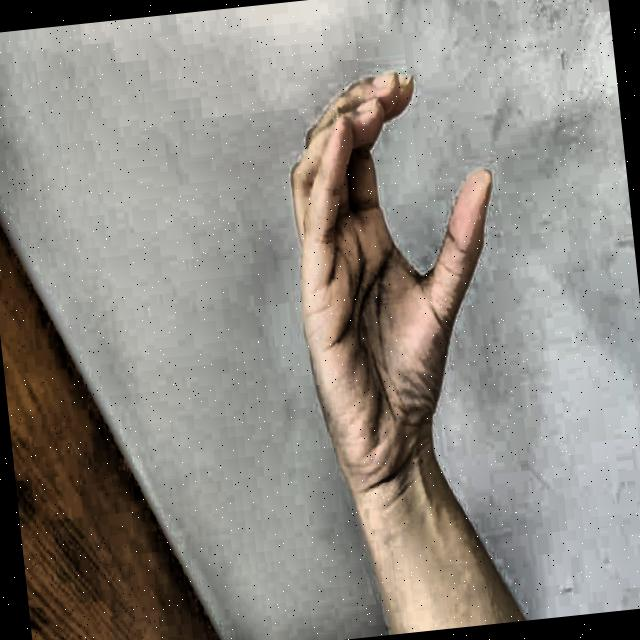A: (248, 35, 538, 508)
